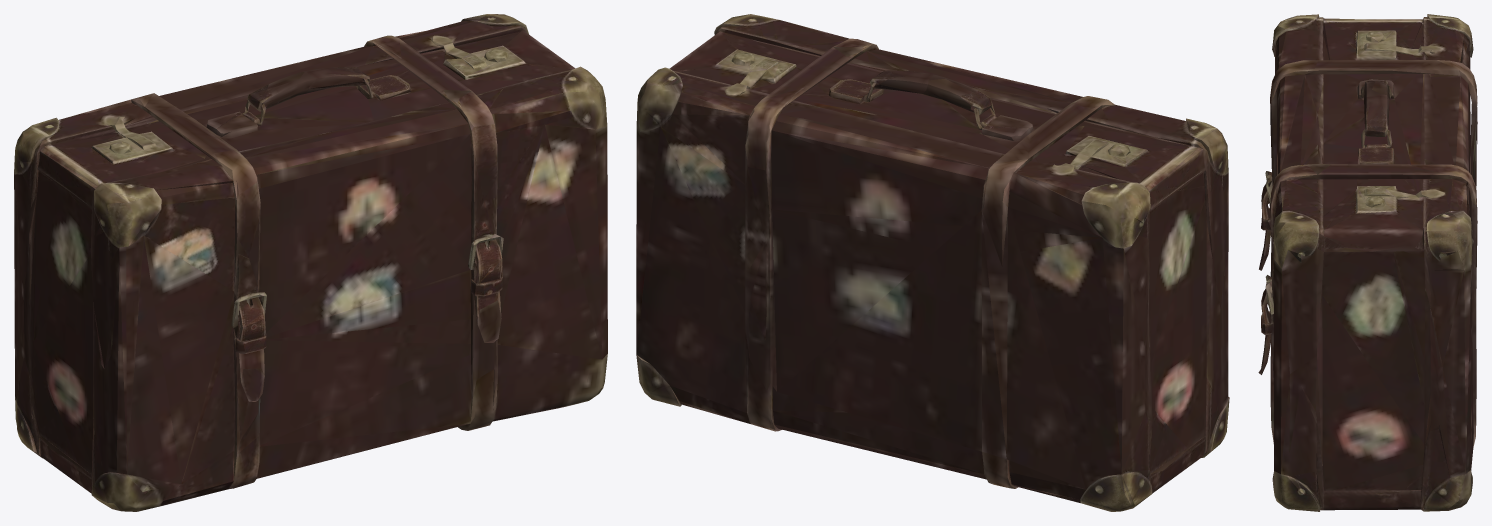
File: suitcase_a.glb
3 views of the same model, side by side, from view 1: azimuth 30°, elevation 25°; view 2: azimuth 150°, elevation 25°; view 3: azimuth 270°, elevation 25° (orthographic). The views are drawn at different scales.
Parts seen in each view (by area): view 1: Mesh_0; view 2: Mesh_0; view 3: Mesh_0.
Part boxes in pixels (x1,y1,x2,y2): Mesh_0: [14, 14, 607, 511]; Mesh_0: [636, 14, 1229, 511]; Mesh_0: [1258, 14, 1477, 511].
Size of the model in its own units: 1.9 by 1.27 by 0.7998.
Materials: 1 (1 with a texture image).
